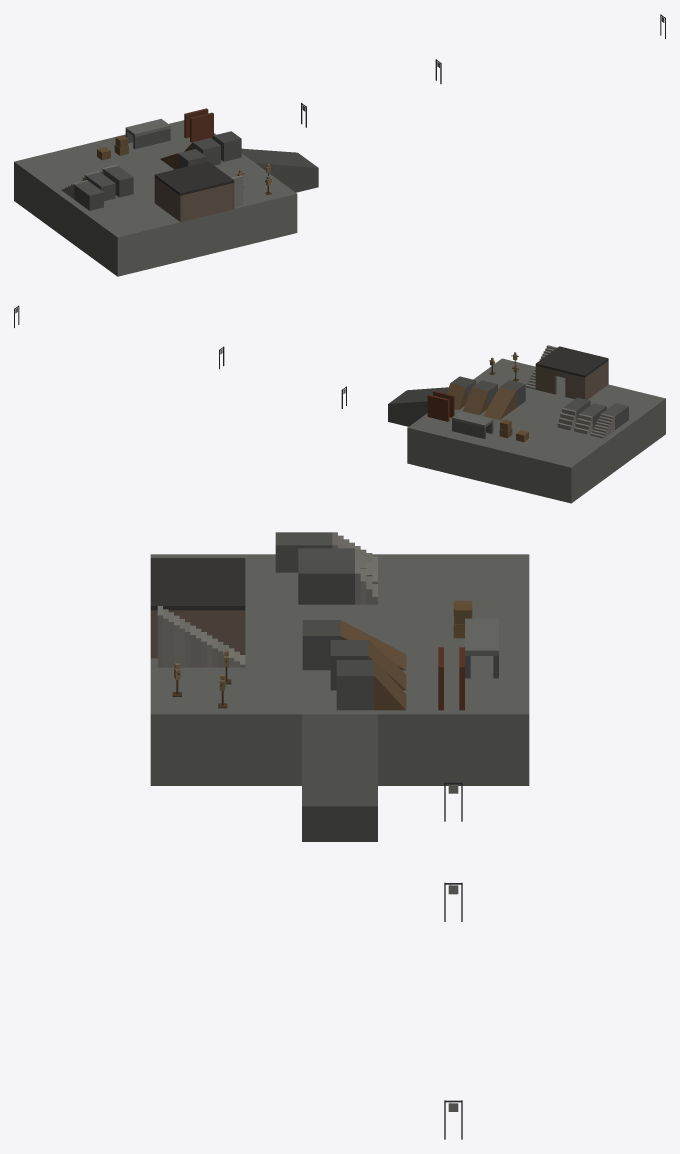
The model's file is proving_ground.glb.
3 views of the same model, one above another, from view 1: azimuth 30°, elevation 25°; view 2: azimuth 150°, elevation 25°; view 3: azimuth 270°, elevation 25° (orthographic). The views are drawn at different scales.
Parts seen in each view (by area): view 1: SOLID_Pad, SOLID_Building, SOLID_Stairs, SOLID_Ramps, SOLID_Tunnel, SOLID_Gap, SOLID_Crates; view 2: SOLID_Pad, SOLID_Building, SOLID_Ramps, SOLID_Stairs, SOLID_Tunnel, SOLID_Gap, SOLID_Crates; view 3: SOLID_Pad, SOLID_Building, SOLID_Ramps, SOLID_Stairs, SOLID_Tunnel.
Boxes of the visible parts, box(x1,y1,x2,y2) form: SOLID_Pad: box(14, 120, 318, 276); SOLID_Building: box(154, 161, 243, 221); SOLID_Stairs: box(61, 164, 133, 210); SOLID_Ramps: box(160, 131, 241, 169); SOLID_Tunnel: box(125, 118, 170, 149); SOLID_Gap: box(184, 108, 213, 142); SOLID_Crates: box(97, 135, 128, 160); SOLID_Pad: box(388, 358, 665, 503); SOLID_Building: box(526, 345, 608, 399); SOLID_Ramps: box(447, 376, 525, 419); SOLID_Stairs: box(557, 397, 628, 438); SOLID_Tunnel: box(452, 411, 493, 438); SOLID_Gap: box(427, 390, 454, 421); SOLID_Crates: box(499, 419, 528, 442); SOLID_Pad: box(150, 554, 529, 841); SOLID_Building: box(150, 558, 245, 667); SOLID_Ramps: box(302, 620, 406, 710); SOLID_Stairs: box(275, 532, 377, 604); SOLID_Tunnel: box(465, 618, 498, 678).
Bounding box in the file's own units: 70.04 × 7.23 × 20.
